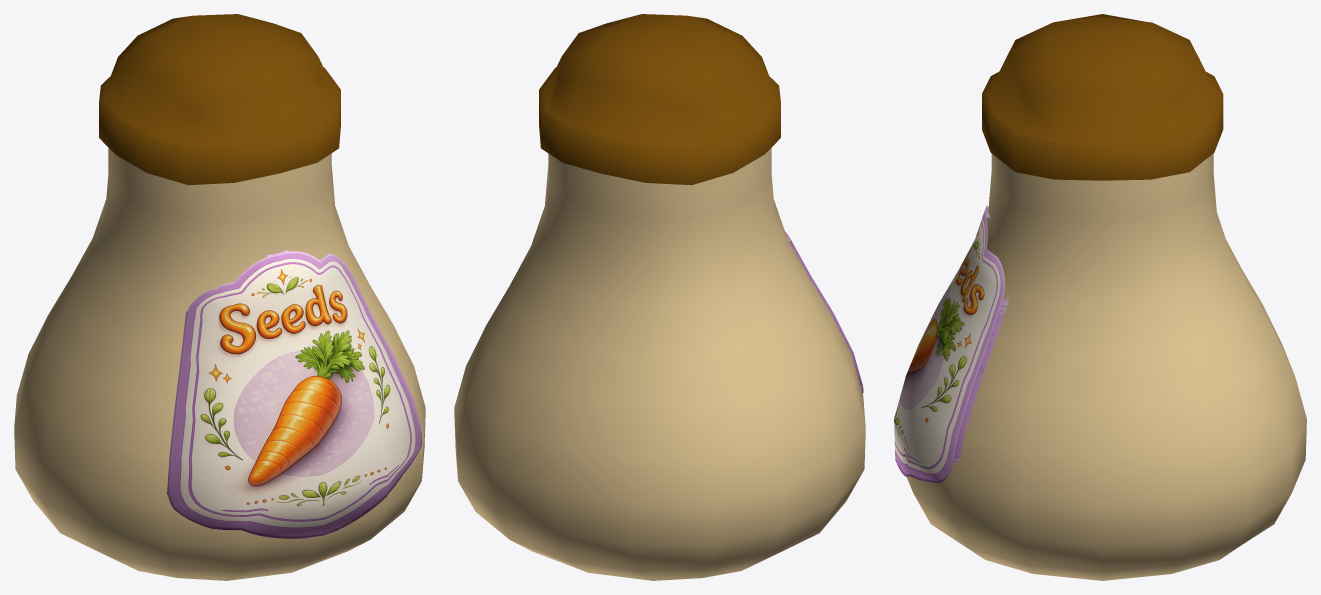
The model's file is seed_carrot.glb.
3 views of the same model, side by side, from view 1: azimuth 30°, elevation 25°; view 2: azimuth 150°, elevation 25°; view 3: azimuth 270°, elevation 25° (orthographic).
Parts seen in each view (by area): view 1: seed_carrot; view 2: seed_carrot; view 3: seed_carrot.
Part boxes in pixels (x1,y1,x2,y2): seed_carrot: (14,14,425,580); seed_carrot: (454,14,865,580); seed_carrot: (894,14,1306,580).
Size of what is drawn, in the model's own units: 0.3161 by 0.4348 by 0.3193.
3 materials, 1 textured.
